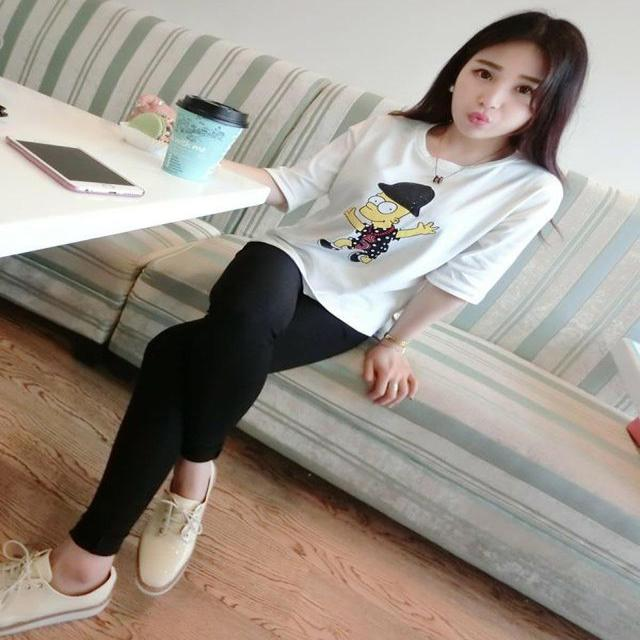long sleeve top: (254, 118, 562, 335)
trousers: (71, 322, 209, 553), (209, 229, 393, 368)
